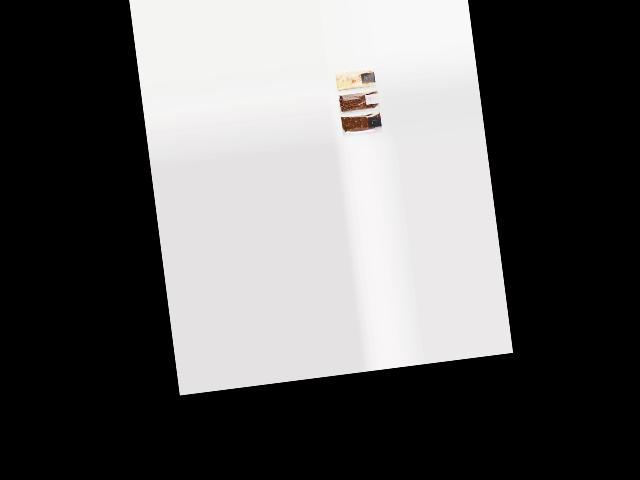chocolate: (339, 113, 382, 136)
